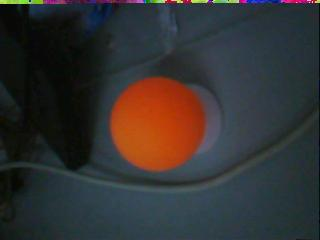oball: (110, 76, 203, 172)
